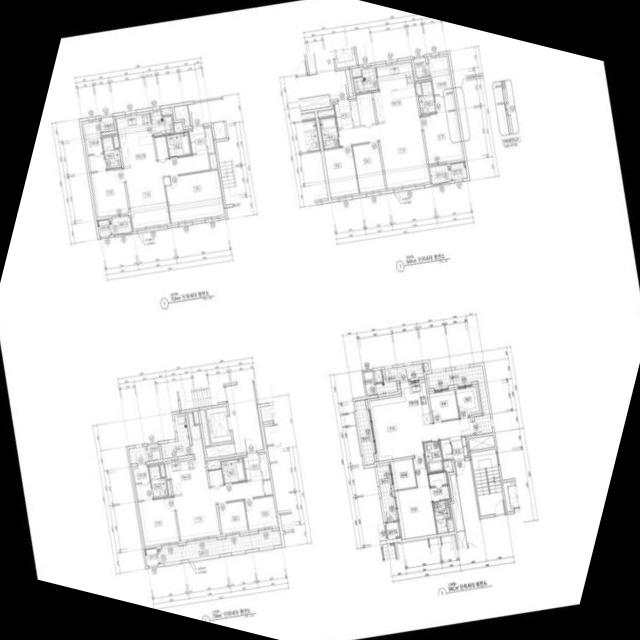background: (0, 0, 640, 640)
space_balconi: (427, 364, 492, 434), (157, 529, 281, 563), (375, 363, 423, 394), (160, 412, 191, 458), (354, 399, 374, 464), (376, 464, 395, 521), (353, 67, 378, 92), (150, 111, 173, 135), (429, 164, 451, 183), (109, 215, 131, 234)
space_bedroom: (395, 456, 436, 538), (165, 169, 223, 222), (421, 110, 462, 163), (138, 496, 179, 545), (90, 167, 128, 216), (323, 145, 358, 196), (352, 141, 385, 192), (244, 495, 277, 529), (217, 500, 247, 533), (428, 389, 458, 421), (455, 386, 478, 417)
space_dressroom: (428, 55, 455, 111), (82, 120, 105, 171), (132, 463, 152, 500), (428, 471, 449, 500)
space_elevator: (206, 405, 231, 443)
space_elevator_hall: (225, 381, 262, 453)
space_front: (188, 125, 214, 154), (333, 98, 353, 128), (242, 451, 262, 480), (449, 435, 468, 457)
space_kitchen: (164, 412, 208, 493), (372, 61, 419, 122), (115, 112, 156, 166), (399, 381, 431, 427)
space_living_room: (368, 395, 472, 460), (338, 115, 429, 188), (123, 152, 210, 228), (173, 478, 264, 539)
space_multipurpose_space: (390, 458, 416, 489)
space_other: (449, 473, 464, 531), (128, 443, 160, 463), (356, 92, 375, 124), (205, 442, 235, 457), (468, 434, 494, 449), (199, 409, 209, 445), (173, 104, 189, 126), (413, 56, 429, 77), (154, 135, 168, 159), (363, 370, 375, 395), (259, 453, 269, 479), (350, 99, 360, 125), (208, 468, 223, 485), (212, 120, 225, 138), (99, 116, 114, 131), (345, 68, 353, 96), (440, 438, 451, 458), (317, 109, 334, 117), (263, 479, 272, 494), (206, 460, 220, 469), (208, 153, 216, 168), (443, 459, 452, 470), (374, 369, 382, 381), (446, 518, 453, 531), (112, 134, 119, 147), (173, 122, 182, 132), (166, 480, 171, 495), (159, 464, 165, 476), (415, 82, 421, 94), (352, 68, 361, 76), (161, 108, 171, 115), (193, 411, 198, 423), (423, 362, 428, 370)
space_outdoor_room: (450, 161, 467, 180), (385, 521, 399, 539), (96, 218, 110, 236)
space_staircase: (471, 448, 505, 515)
space_toilet: (101, 135, 121, 168), (220, 457, 245, 483), (423, 440, 443, 472), (319, 116, 339, 148), (148, 464, 167, 497), (166, 131, 190, 157), (432, 499, 450, 533), (418, 80, 435, 114)
